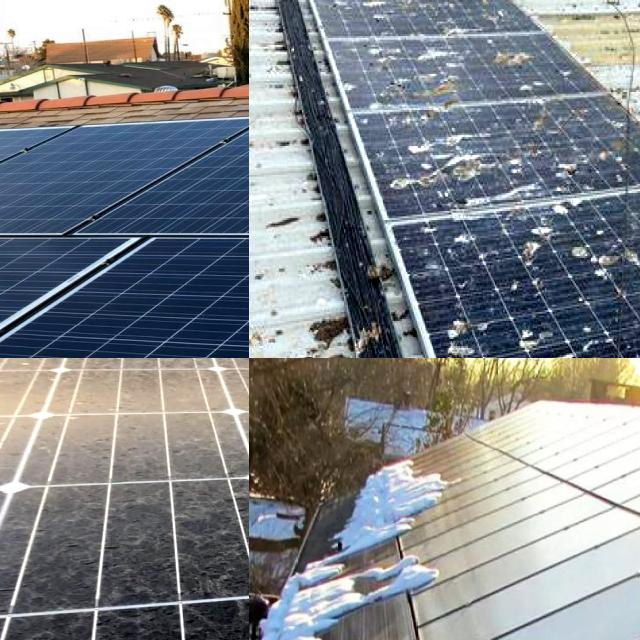bird: (399, 122, 494, 180), (378, 45, 460, 109), (573, 230, 640, 294), (516, 209, 566, 291), (494, 322, 586, 358), (486, 24, 536, 83), (446, 296, 484, 358), (546, 142, 597, 186)
crack: (0, 202, 249, 358), (0, 107, 249, 263), (66, 77, 249, 270)
dust: (0, 470, 249, 610), (0, 362, 249, 466), (22, 358, 246, 406), (78, 358, 249, 377)
panel: (308, 562, 434, 615), (392, 456, 458, 544), (332, 480, 380, 572), (255, 613, 345, 640)
